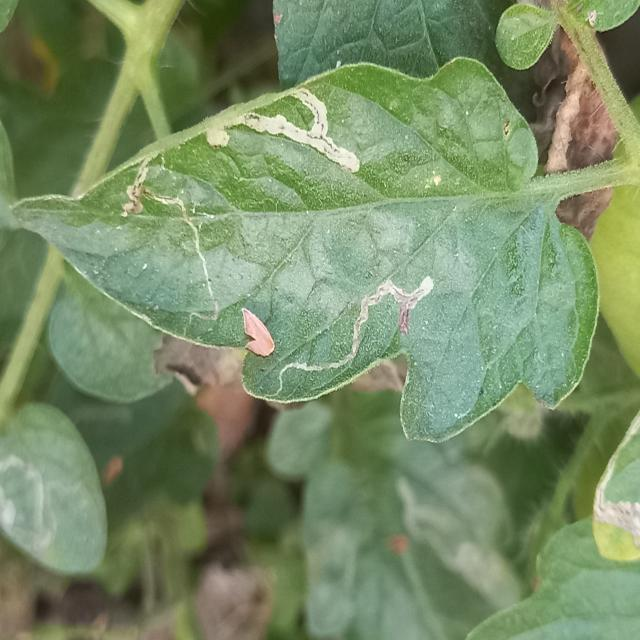Tuta absoluta: (276, 258, 450, 408), (104, 158, 253, 325), (233, 68, 379, 175), (206, 128, 228, 147)
